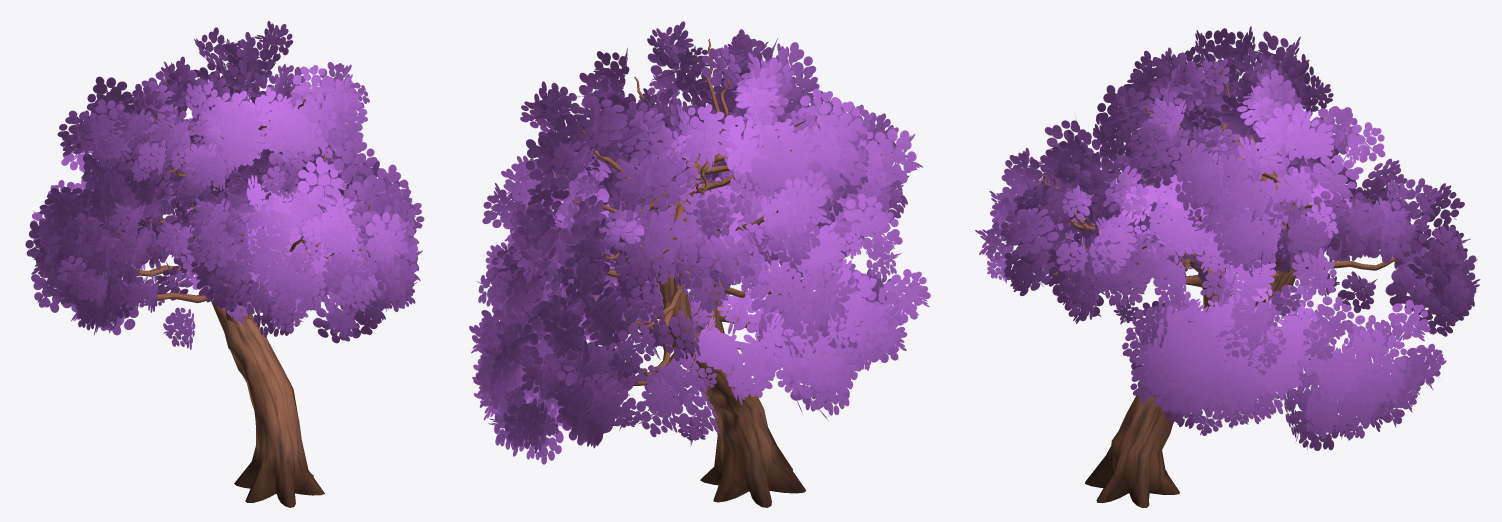
Rendered from CherryBlossom_1.glb.
The picture shows the model from 3 angles, left to right: view 1: azimuth 30°, elevation 25°; view 2: azimuth 150°, elevation 25°; view 3: azimuth 270°, elevation 25°; orthographic projection. The views are drawn at different scales.
Visible parts, largest first — view 1: CherryBlossom_1; view 2: CherryBlossom_1; view 3: CherryBlossom_1.
Boxes of the visible parts, x1=… form: CherryBlossom_1: x1=25, y1=21, x2=424, y2=507; CherryBlossom_1: x1=469, y1=21, x2=930, y2=507; CherryBlossom_1: x1=975, y1=26, x2=1480, y2=507.
Size of the model in its own units: 12.1 by 13.38 by 14.68.
Materials: 2 (2 with a texture image).
